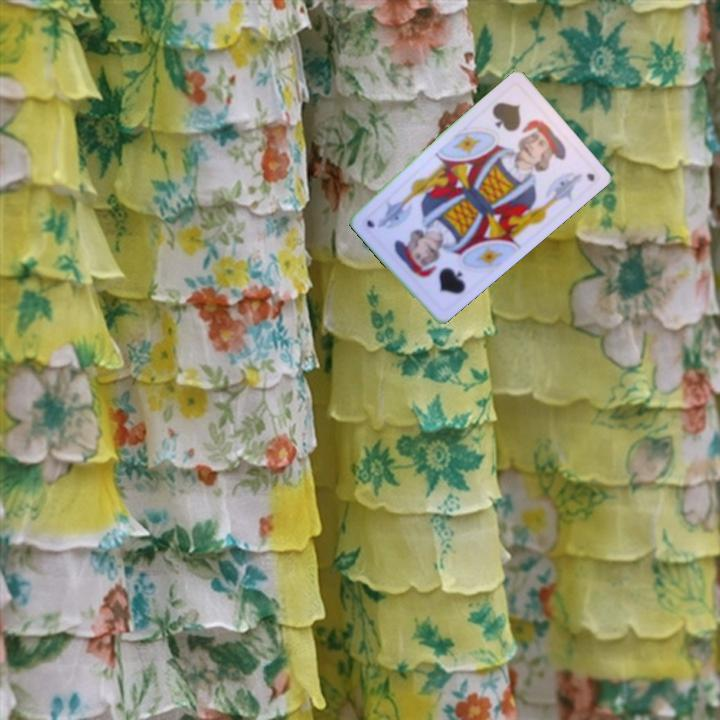s_j.png: (397, 228, 482, 314), (474, 82, 559, 168)
